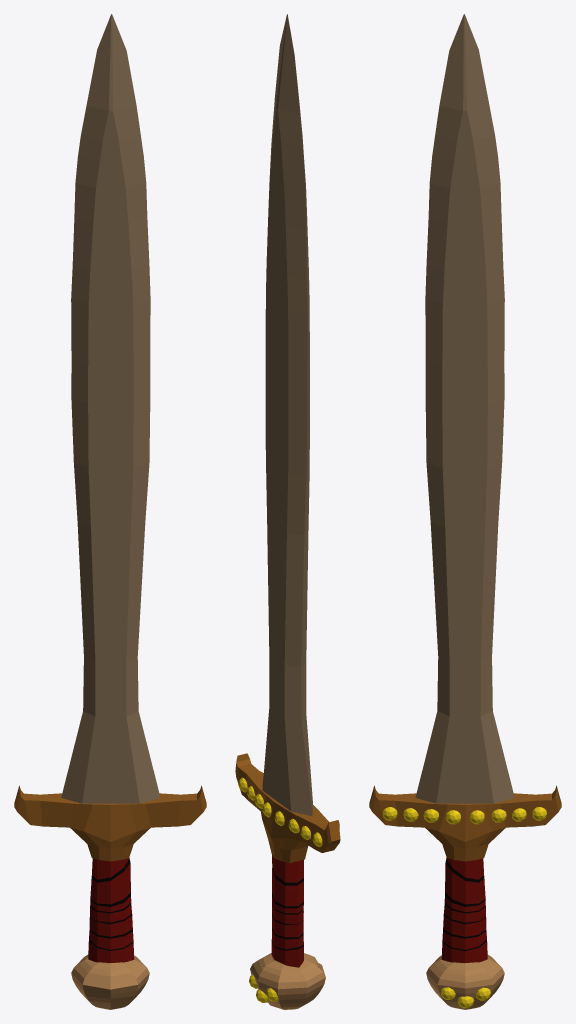
File: sword3.fbx
The picture shows the model from 3 angles, left to right: view 1: azimuth 90°, elevation 25°; view 2: azimuth 210°, elevation 25°; view 3: azimuth 270°, elevation 25°; orthographic projection.
Visible parts, largest first — view 1: Sword; view 2: Sword; view 3: Sword.
Part boxes in pixels (x1,y1,x2,y2): Sword: (14,14,206,1009); Sword: (235,14,340,1009); Sword: (369,14,561,1009).
Bounding box in the file's own units: 20.66 × 301 × 52.83.
